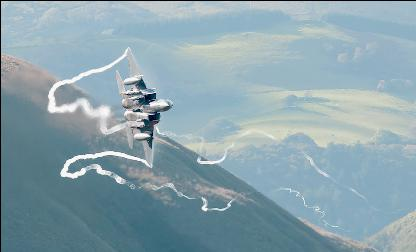F117: (115, 46, 173, 166)
